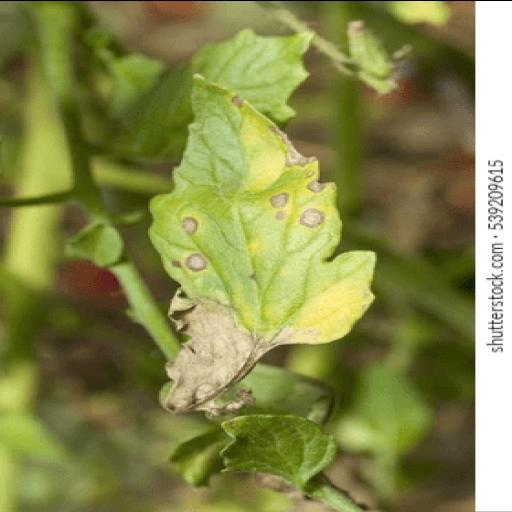disease_tomato: (142, 72, 378, 408)
